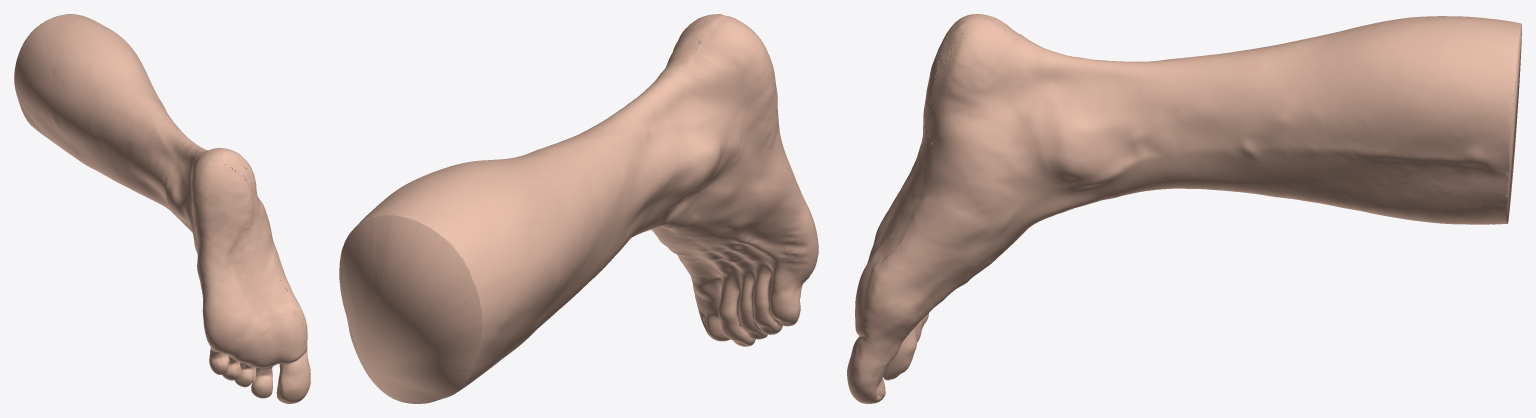
The model's file is Foot_Short_Left.fbx.
3 renders of one model, left to right at view 1: azimuth 30°, elevation 25°; view 2: azimuth 150°, elevation 25°; view 3: azimuth 270°, elevation 25°, orthographic. The views are drawn at different scales.
Visible parts, largest first — view 1: Foot_short_left; view 2: Foot_short_left; view 3: Foot_short_left.
Boxes of the visible parts, x1=… form: Foot_short_left: x1=14, y1=14, x2=310, y2=403; Foot_short_left: x1=339, y1=14, x2=818, y2=403; Foot_short_left: x1=847, y1=14, x2=1521, y2=403.
Bounding box in the file's own units: 300 × 675 × 1130.
